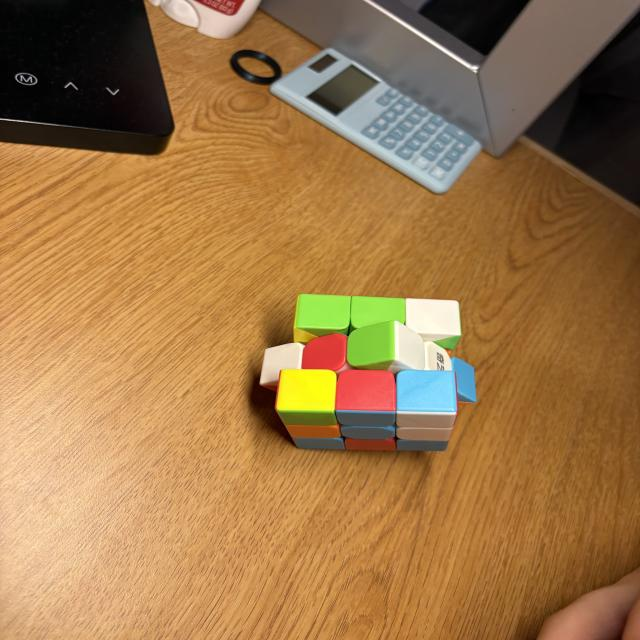Rubiks Cube: (258, 294, 477, 454)
